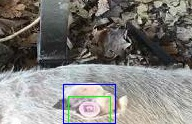text: (68, 96, 110, 123)
